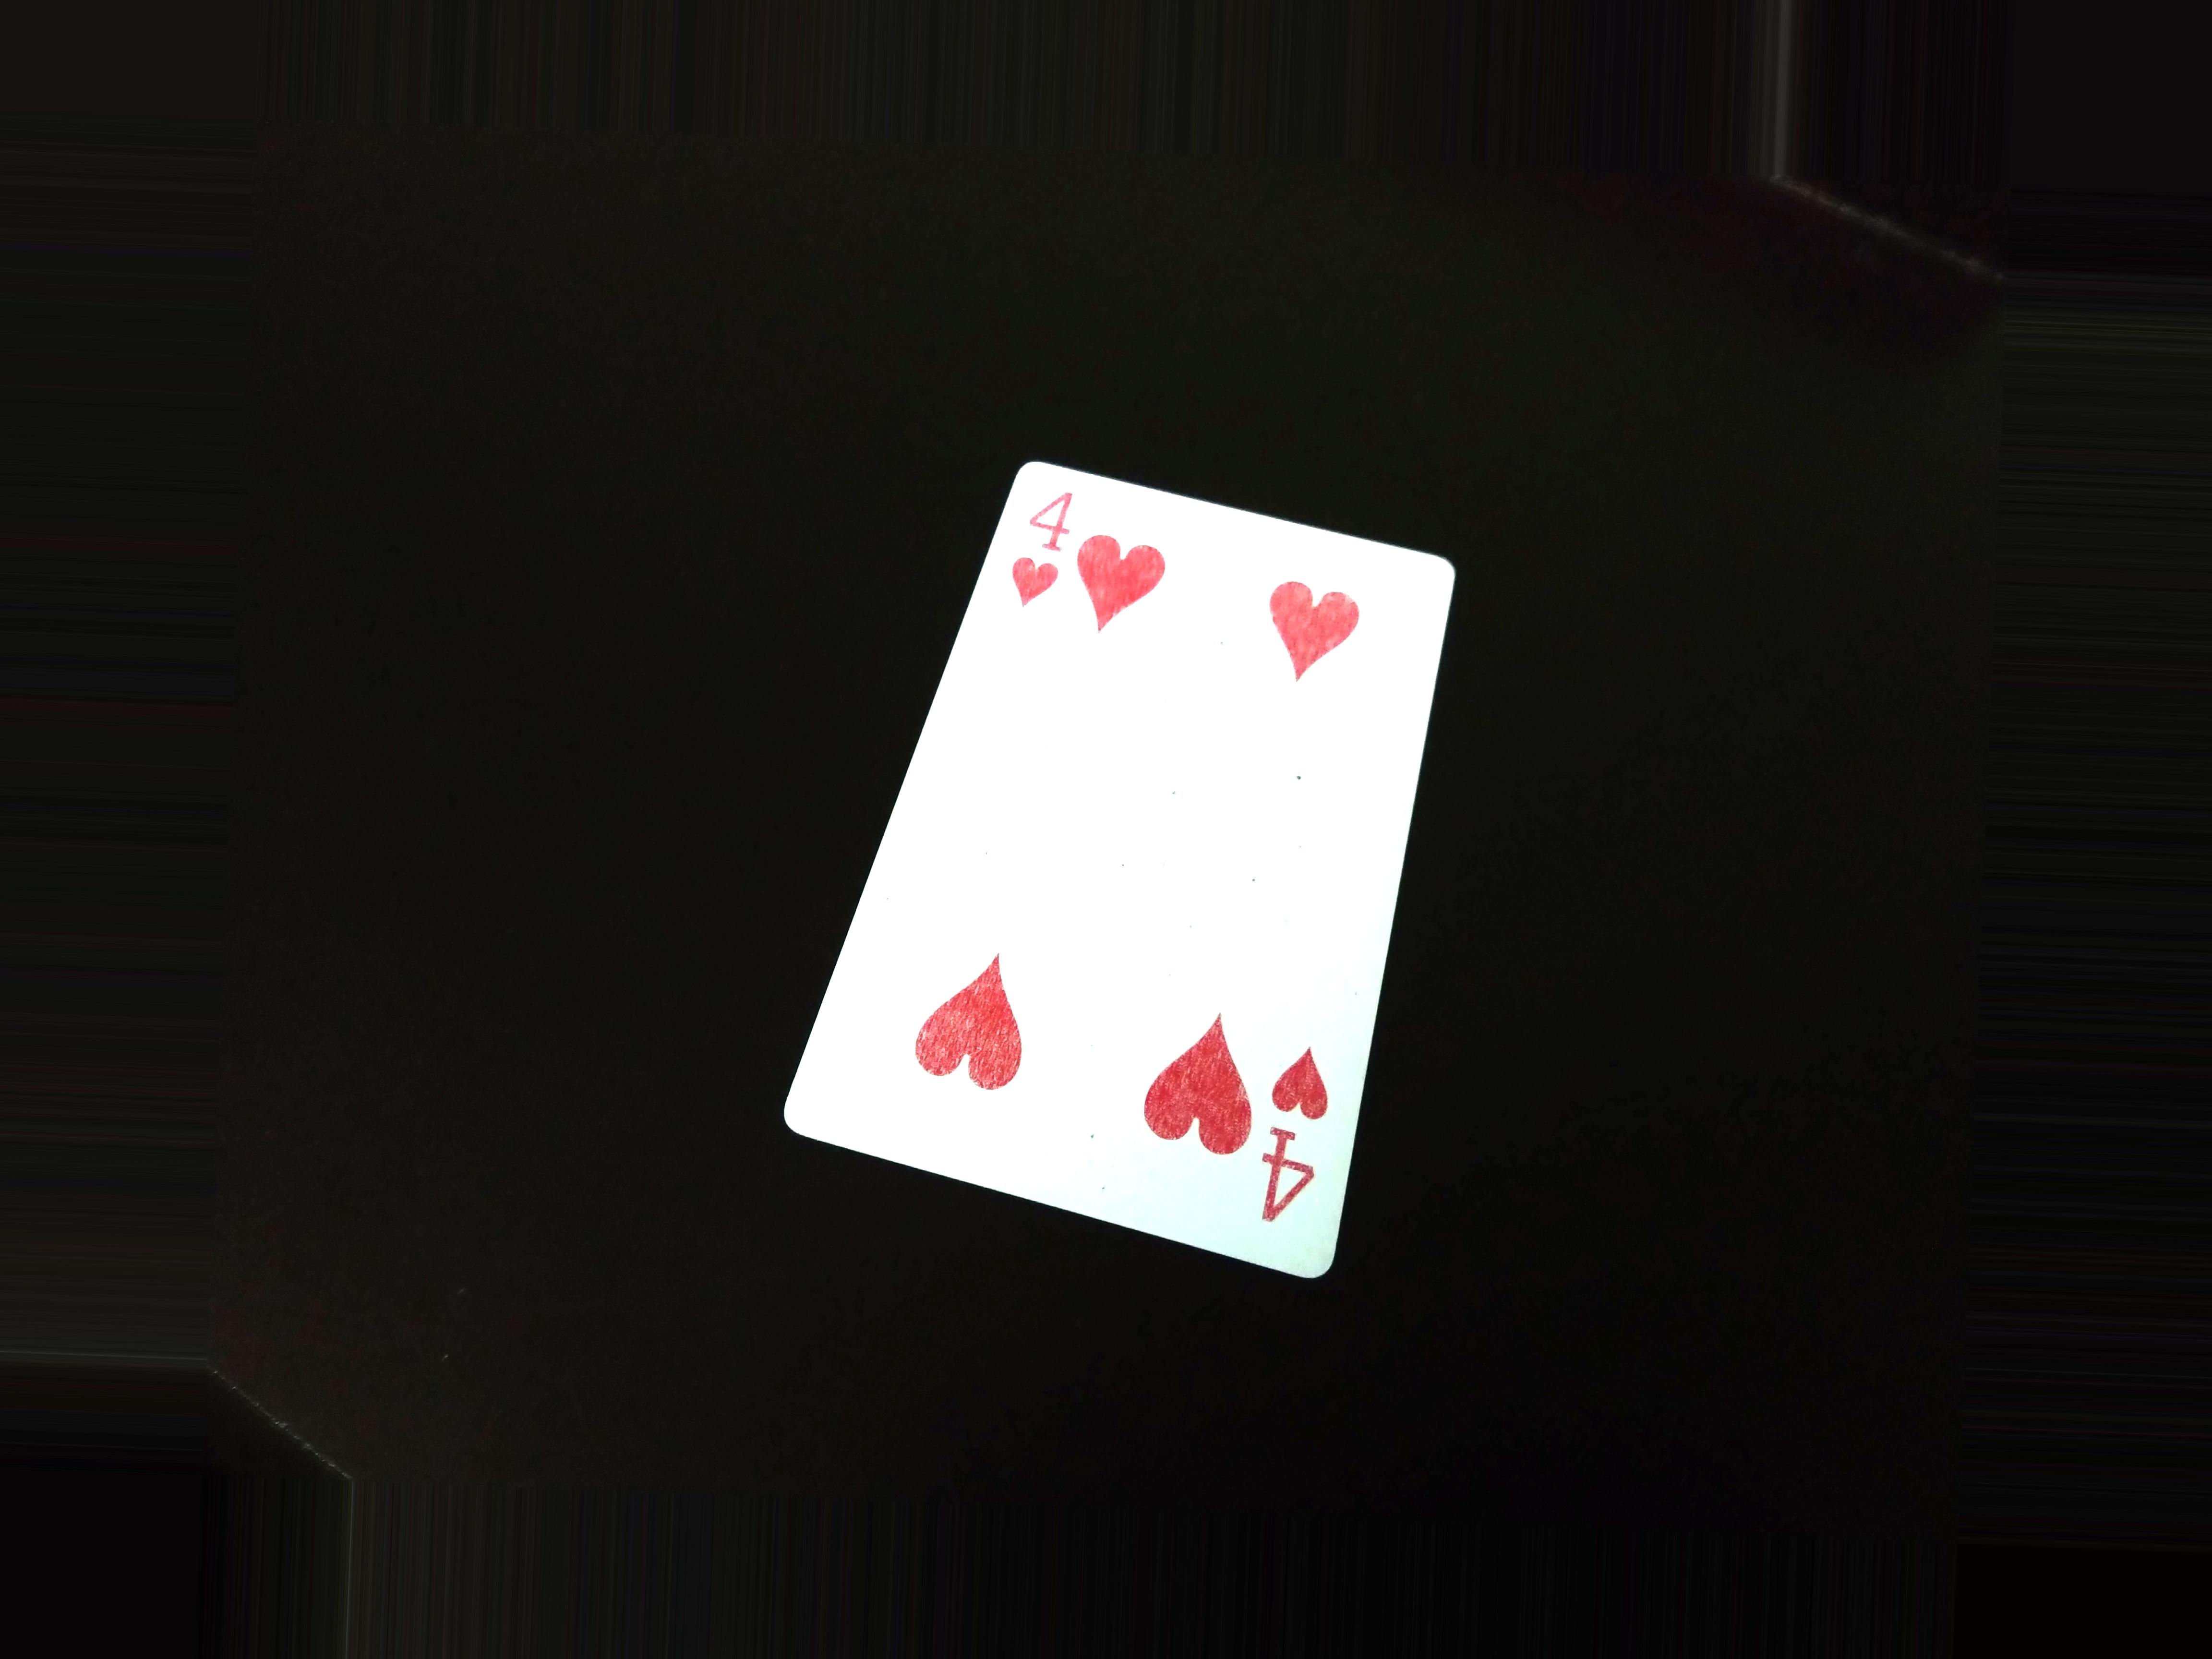4H: (1256, 1044, 1334, 1234)
